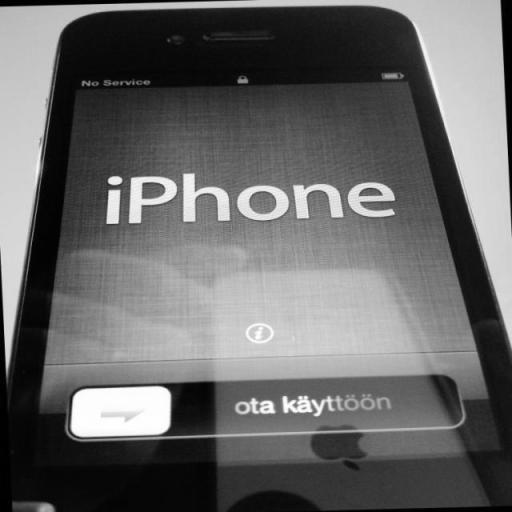phone: (8, 0, 511, 511)
